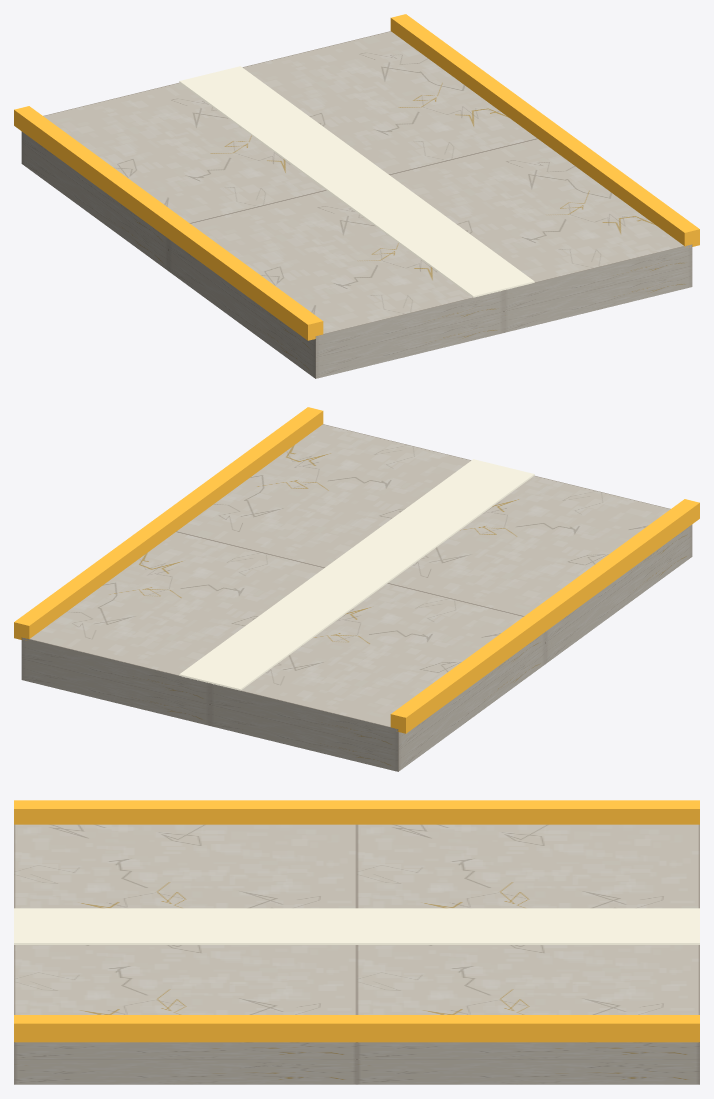
The model's file is god-floor-10m.glb.
The picture shows the model from 3 angles, top to bottom: view 1: azimuth 30°, elevation 25°; view 2: azimuth 150°, elevation 25°; view 3: azimuth 270°, elevation 25°; orthographic projection. The views are drawn at different scales.
Parts seen in each view (by area): view 1: god floor (10 m); view 2: god floor (10 m); view 3: god floor (10 m).
Part boxes in pixels (<box>): god floor (10 m): <box>14,14,699,378</box>; god floor (10 m): <box>14,407,699,771</box>; god floor (10 m): <box>14,800,699,1084</box>.
Size of the model in its own units: 7.7 by 1.05 by 10.
Materials: 3 (1 with a texture image).
